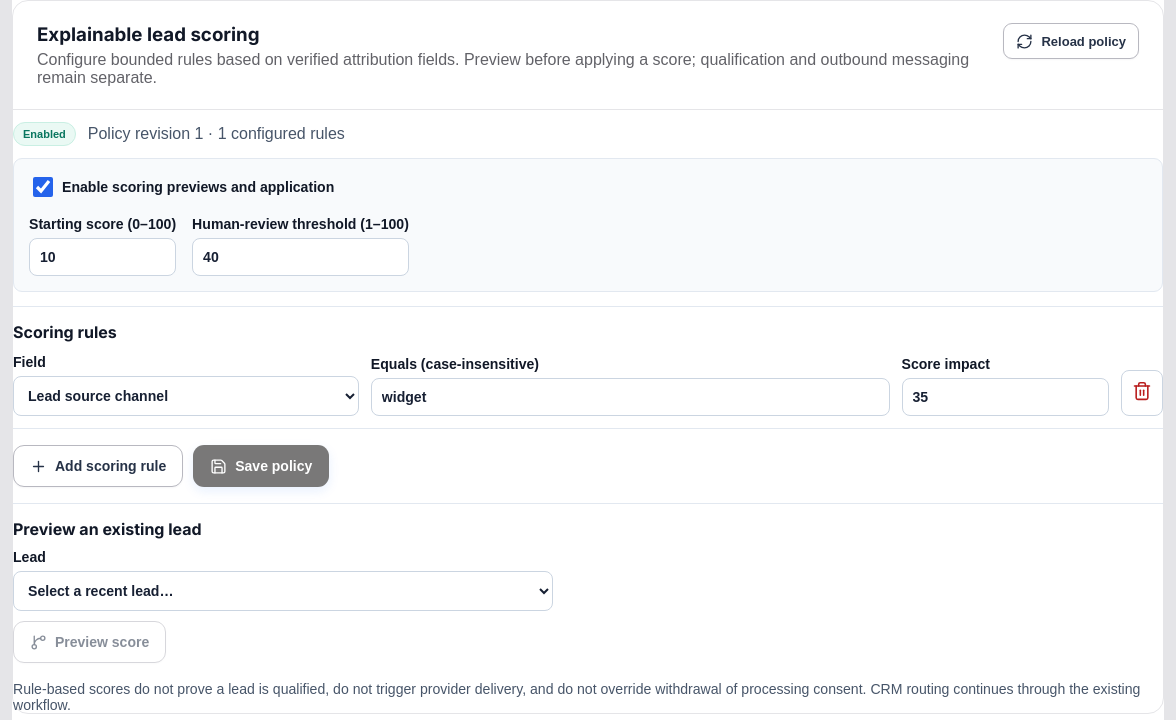
Scenario: CRM lead-scoring panel › blocks application when consent or policy forbids scoring
Select "New lead · widget" in the dropdown labelled "Lead" at (283, 591), box [13, 571, 553, 611]
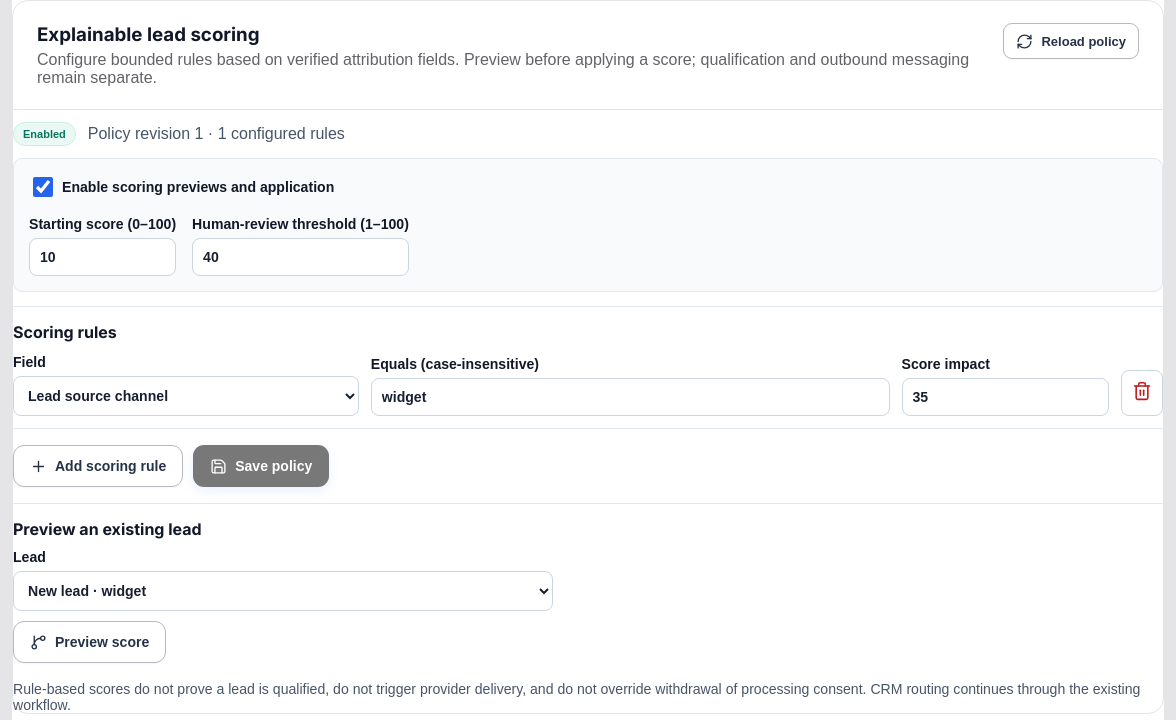
Click the button "Preview score" at (90, 642), box [13, 621, 166, 663]
(page scrolled)
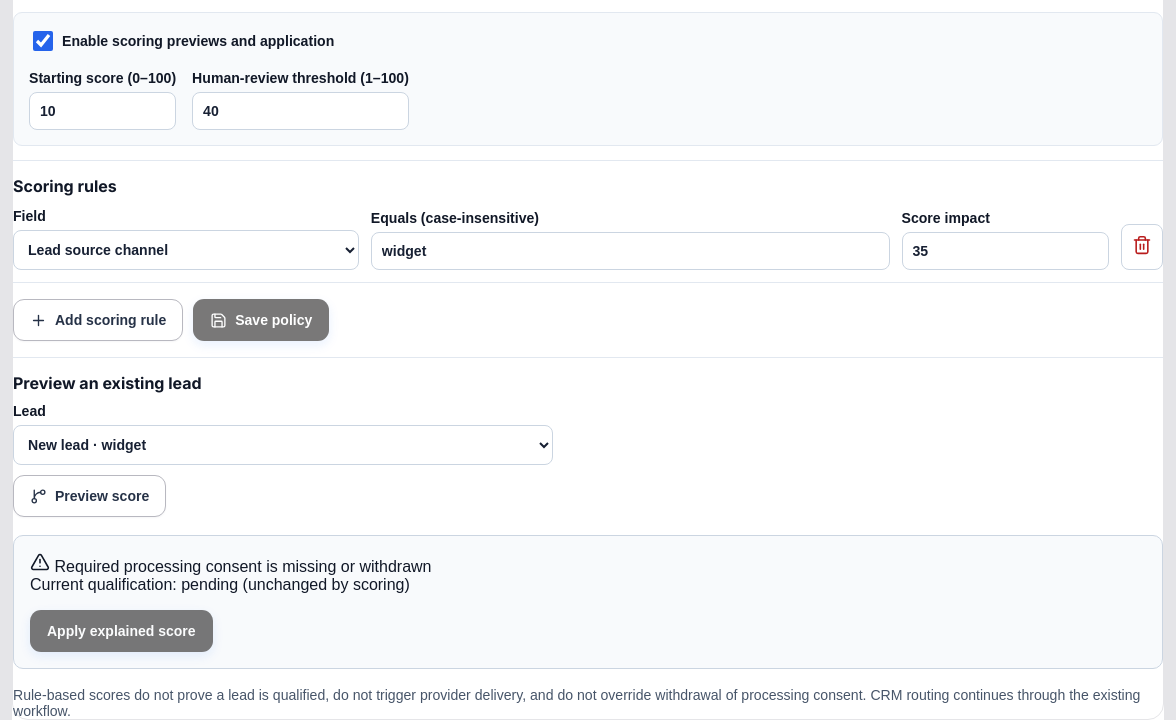
Expected: the text "Required processing consent is missing or withdrawn" is shown, [30, 552, 432, 575]
Expected: the button "Apply explained score" is disabled, [30, 610, 213, 652]
